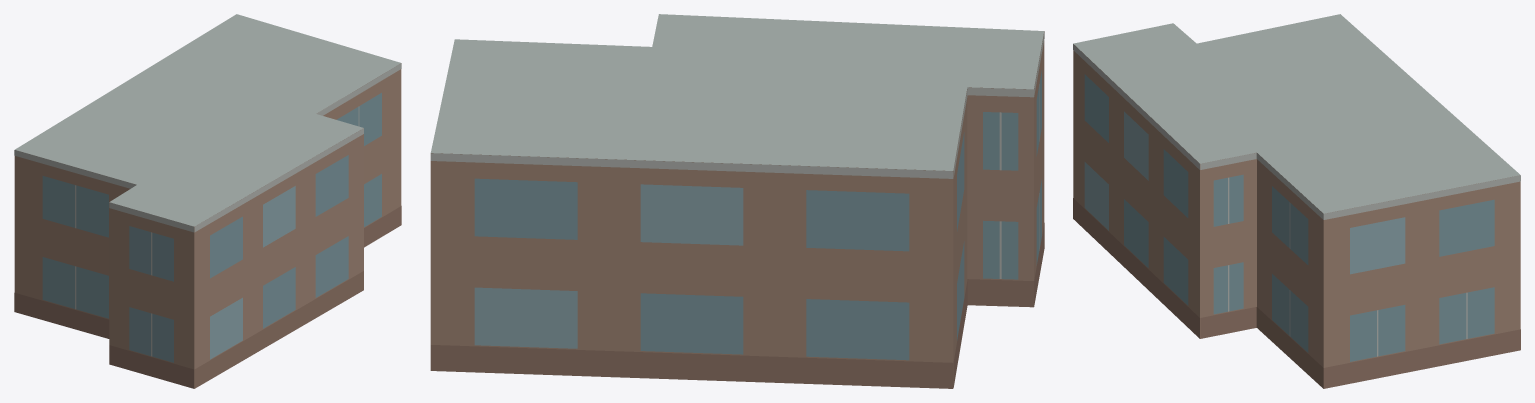
Rendered from survey-upis-32602627.glb.
The picture shows the model from 3 angles, left to right: view 1: azimuth 30°, elevation 25°; view 2: azimuth 150°, elevation 25°; view 3: azimuth 270°, elevation 25°; orthographic projection. The views are drawn at different scales.
Visible parts, largest first — view 1: survey-upis-32602627.tmp; view 2: survey-upis-32602627.tmp; view 3: survey-upis-32602627.tmp.
Boxes of the visible parts, bbox=[...] form: survey-upis-32602627.tmp: bbox=[14, 14, 401, 388]; survey-upis-32602627.tmp: bbox=[430, 14, 1044, 388]; survey-upis-32602627.tmp: bbox=[1073, 14, 1520, 388].
Bounding box in the file's own units: 16.4 × 6.7 × 15.53.
